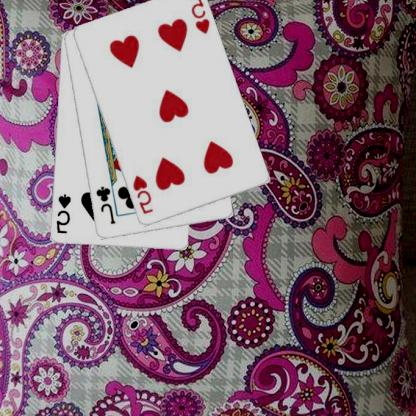5H: (132, 173, 156, 216), (188, 0, 213, 36)
5S: (55, 192, 73, 236)
JC: (94, 184, 118, 226)
